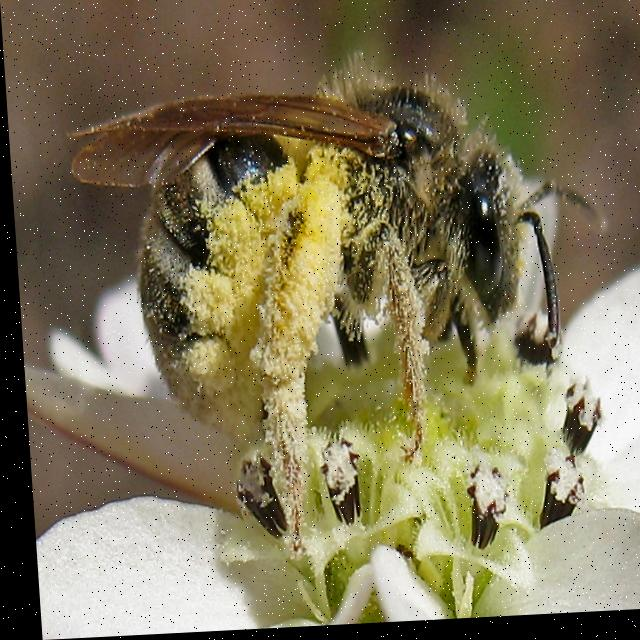Lasioglossum: (61, 66, 613, 482)
